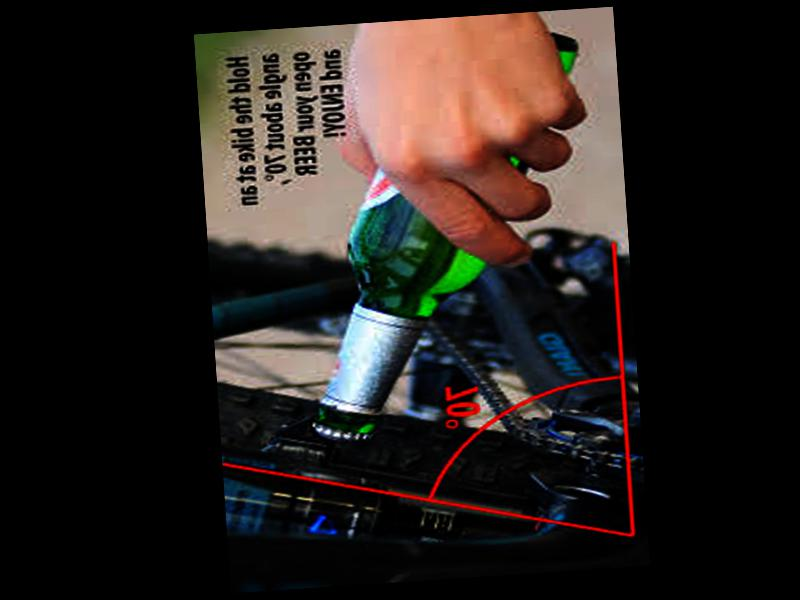Beer: (287, 29, 603, 449)
